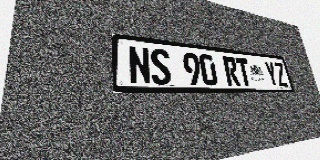0: (198, 53, 218, 86)
9: (182, 52, 203, 85)
N: (128, 45, 152, 85)
R: (222, 56, 241, 86)
S: (149, 48, 172, 85)
T: (235, 58, 253, 86)
Y: (263, 61, 279, 87)
Z: (273, 62, 288, 87)
